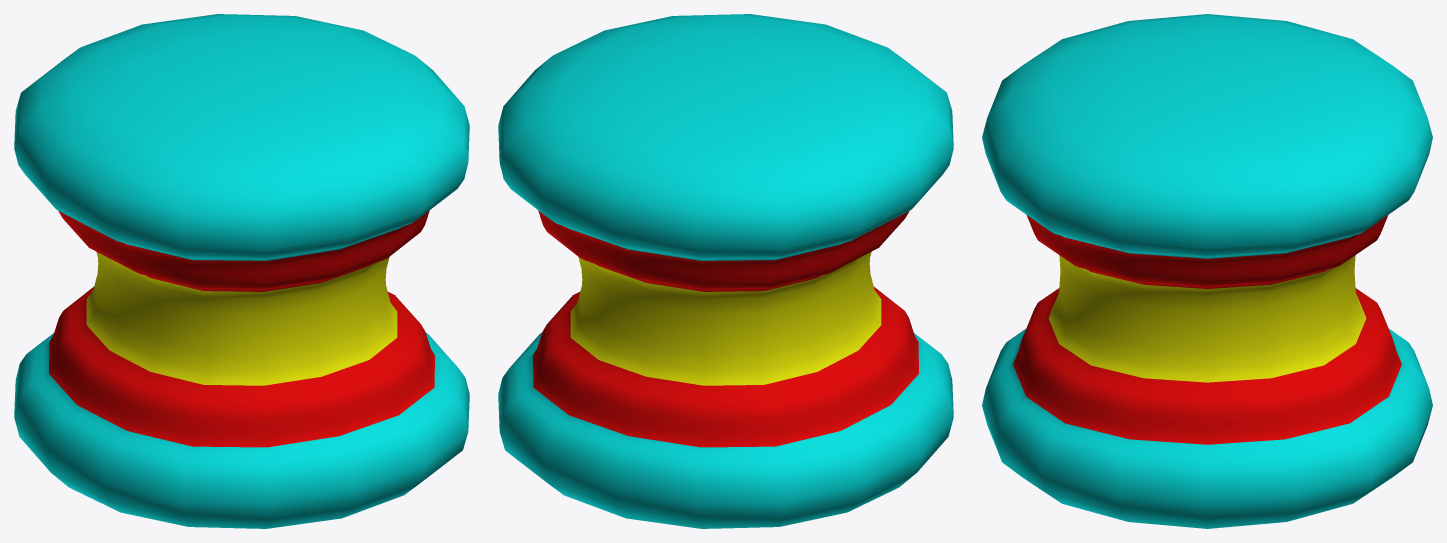
The model's file is Ornament_1.fbx.
3 renders of one model, left to right at view 1: azimuth 30°, elevation 25°; view 2: azimuth 150°, elevation 25°; view 3: azimuth 270°, elevation 25°, orthographic.
Parts seen in each view (by area): view 1: Ornament_1; view 2: Ornament_1; view 3: Ornament_1.
Part boxes in pixels (x1,y1,x2,y2): Ornament_1: [14, 14, 469, 528]; Ornament_1: [498, 14, 953, 528]; Ornament_1: [982, 14, 1432, 528].
Size of the model in its own units: 101 by 99.42 by 101.
